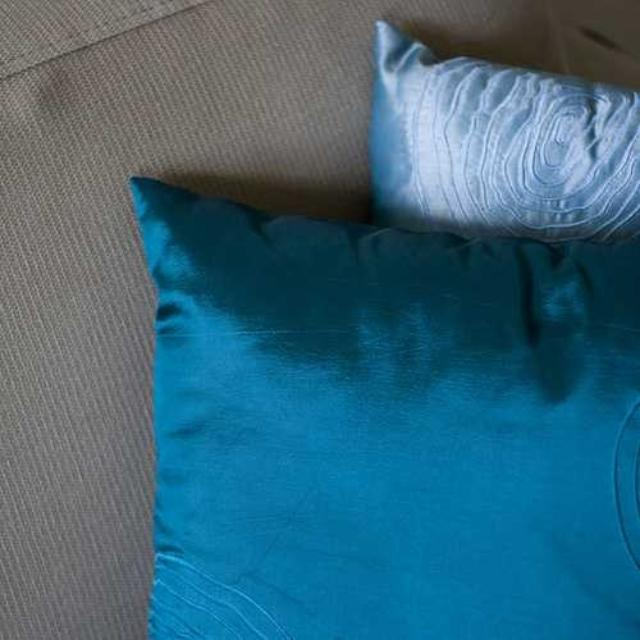pillow: (366, 18, 638, 244)
